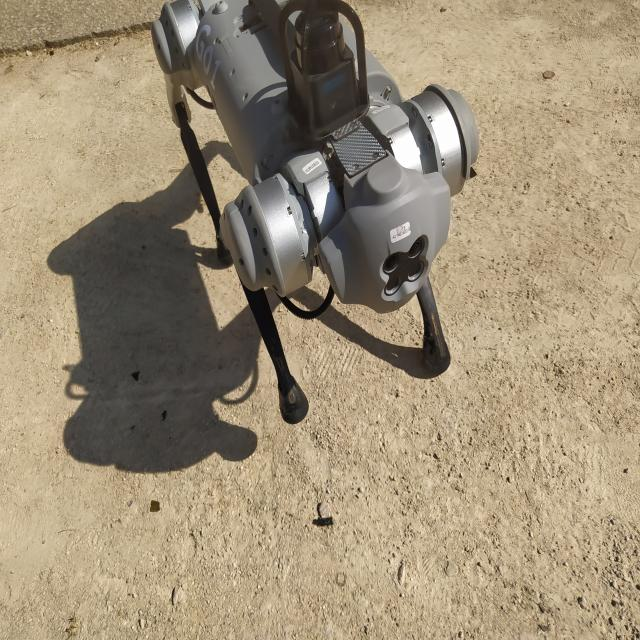unitree-go1-robot: (144, 0, 488, 438)
